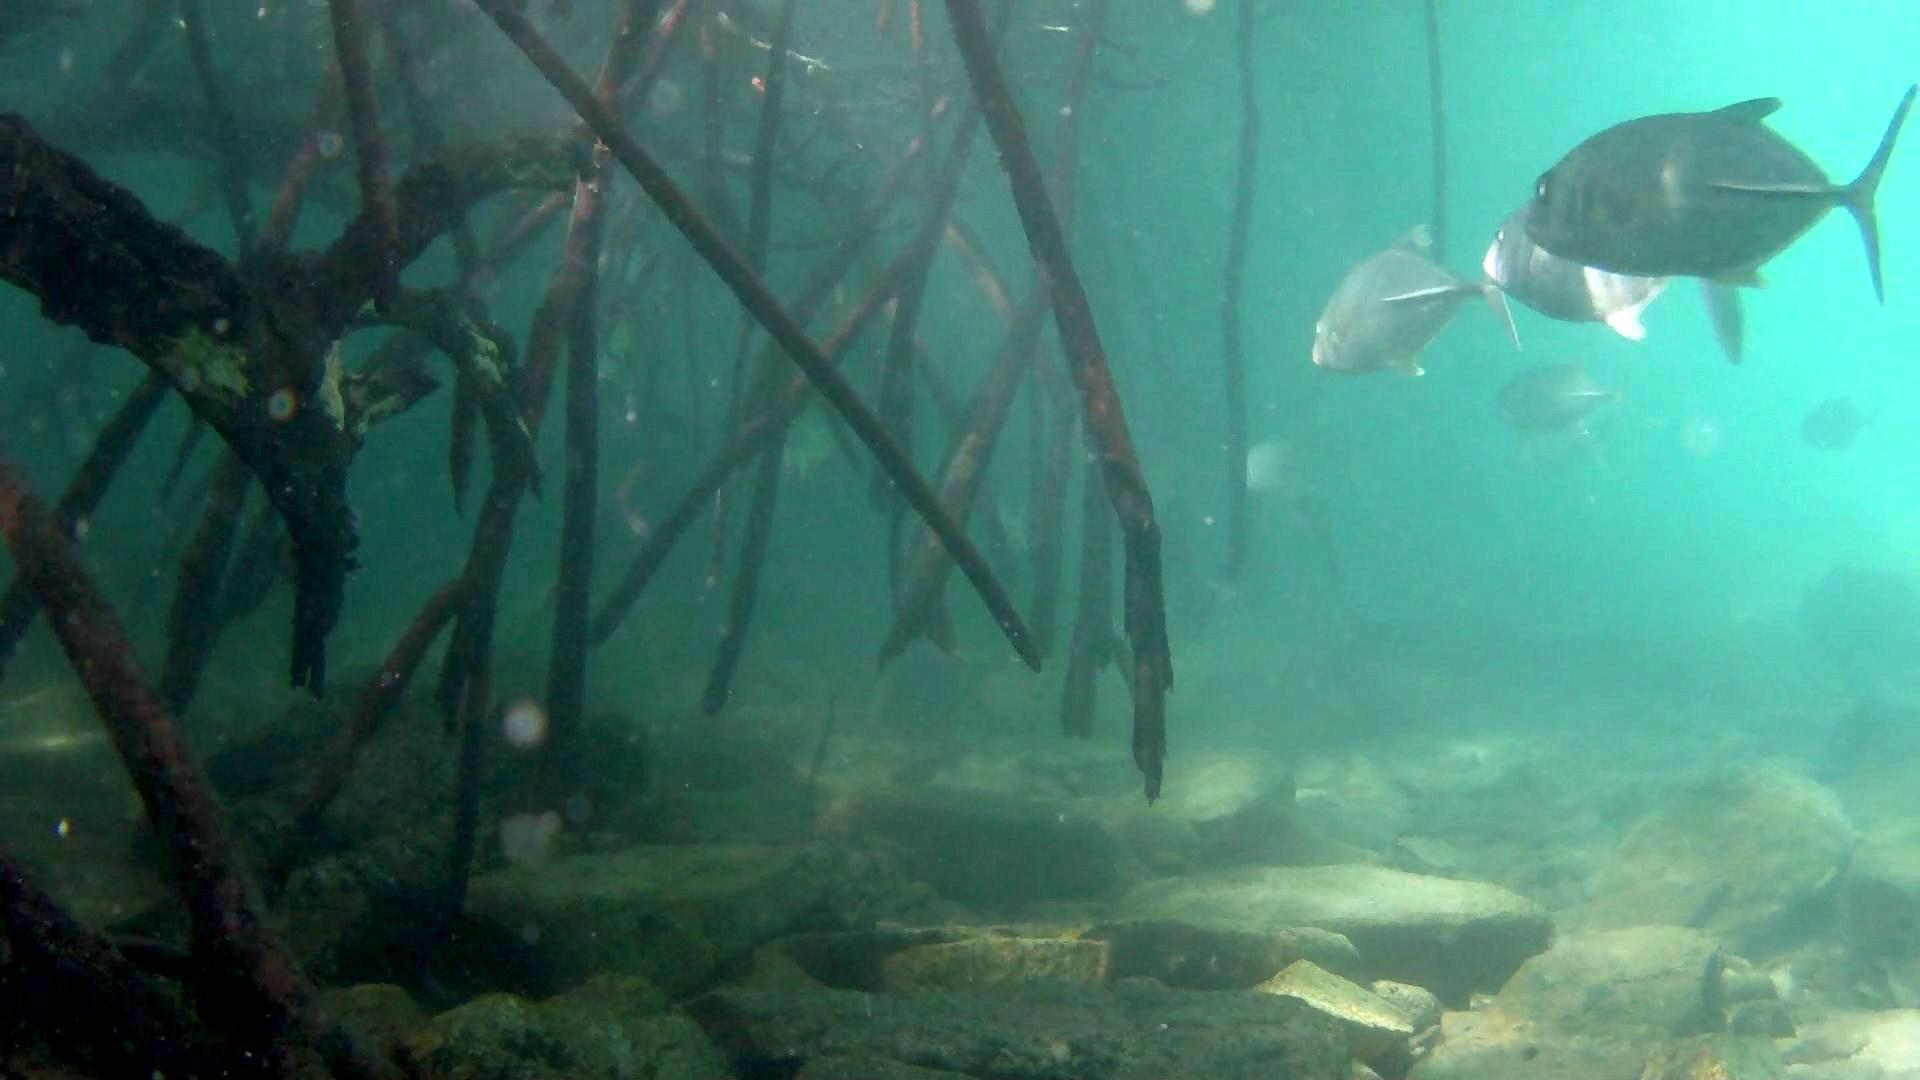caranx: (1513, 82, 1920, 297), (1304, 236, 1491, 397)
